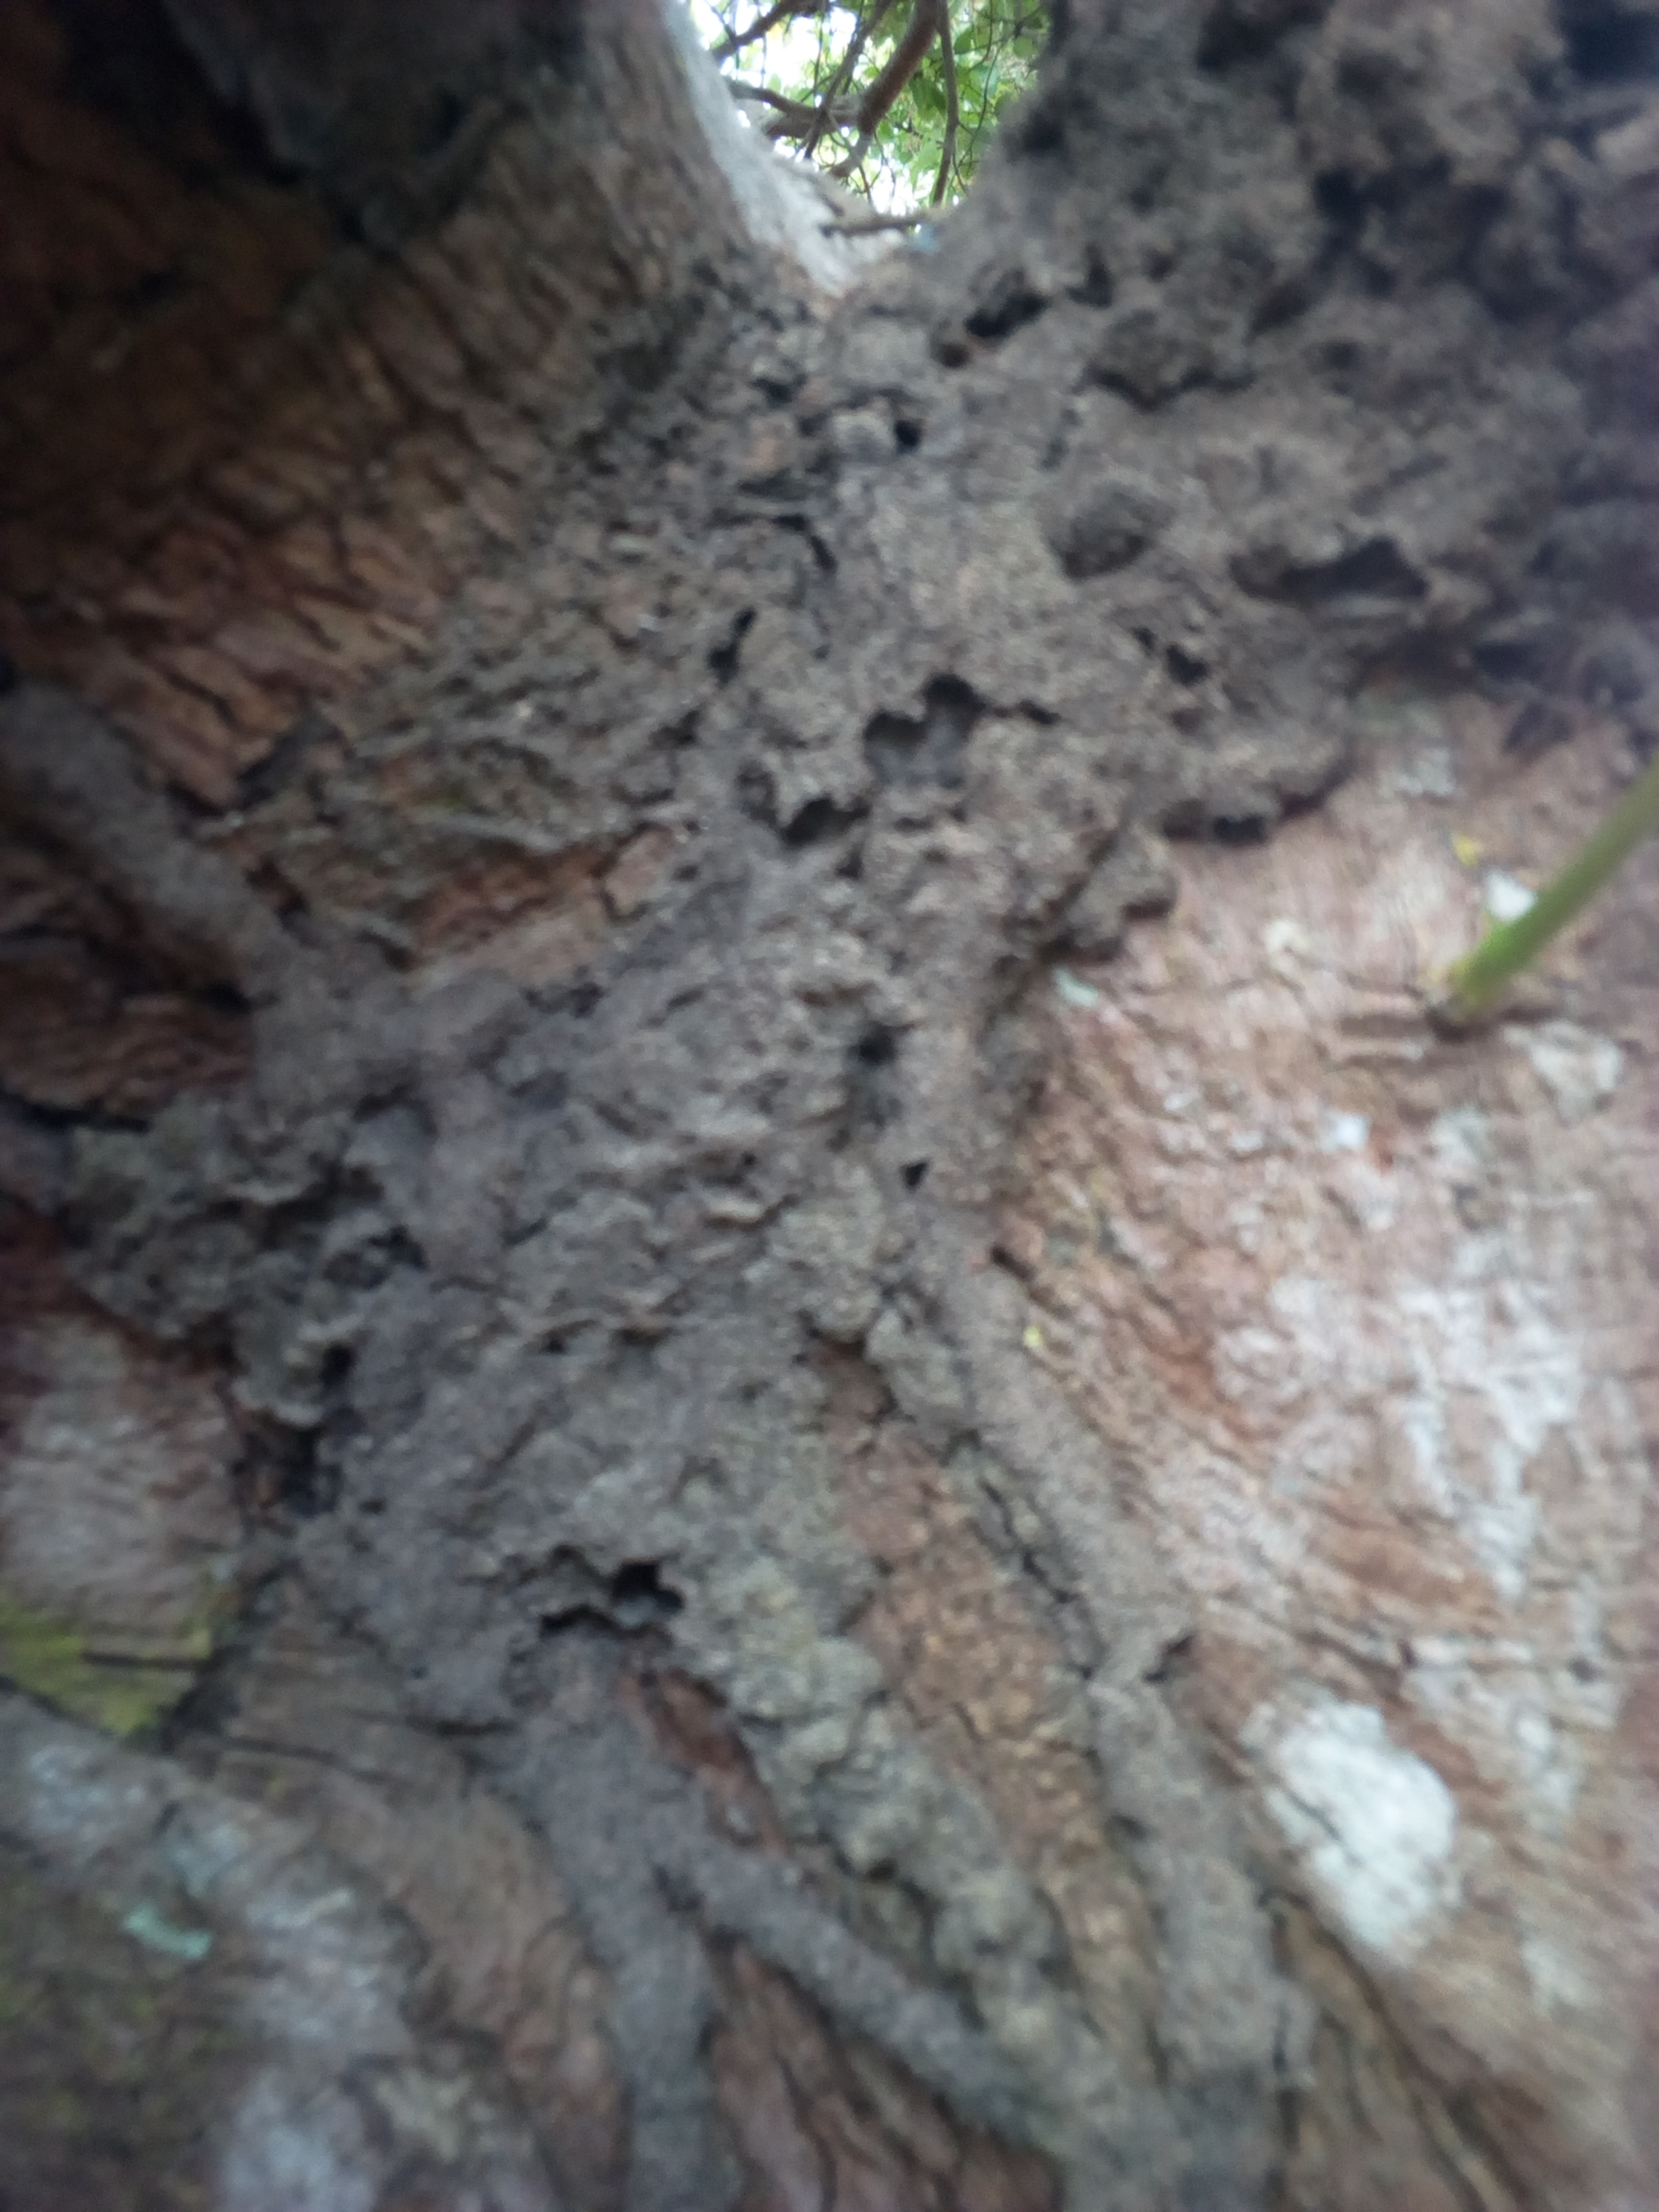Termites: (112, 765, 1310, 2212), (622, 21, 1656, 686)
